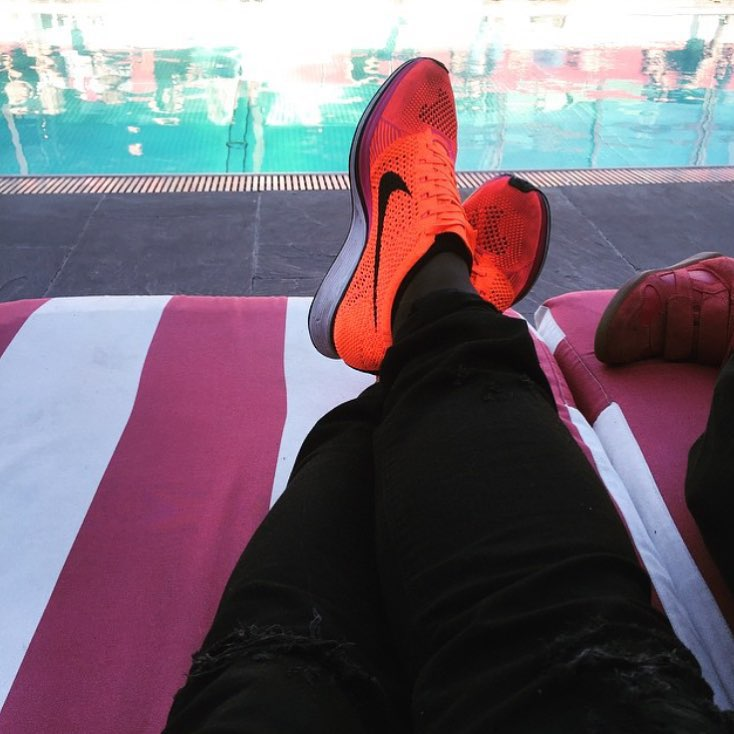sneaker: (290, 46, 490, 384), (434, 161, 571, 328), (576, 237, 734, 376)
